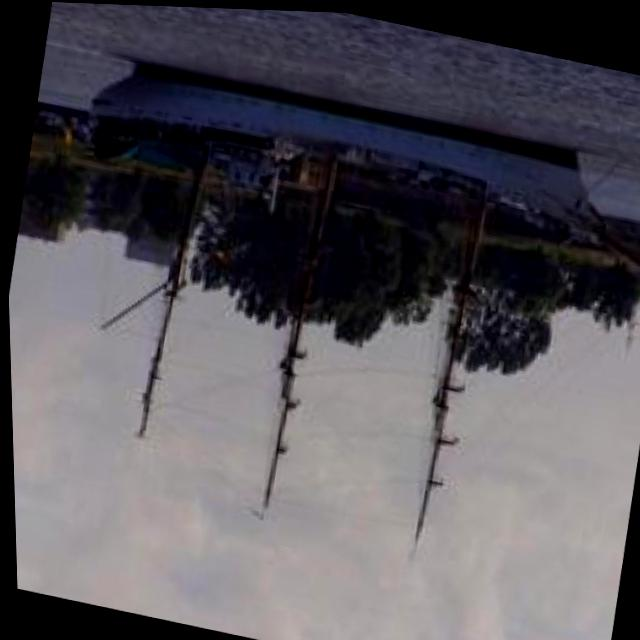ship2: (88, 68, 640, 563)
